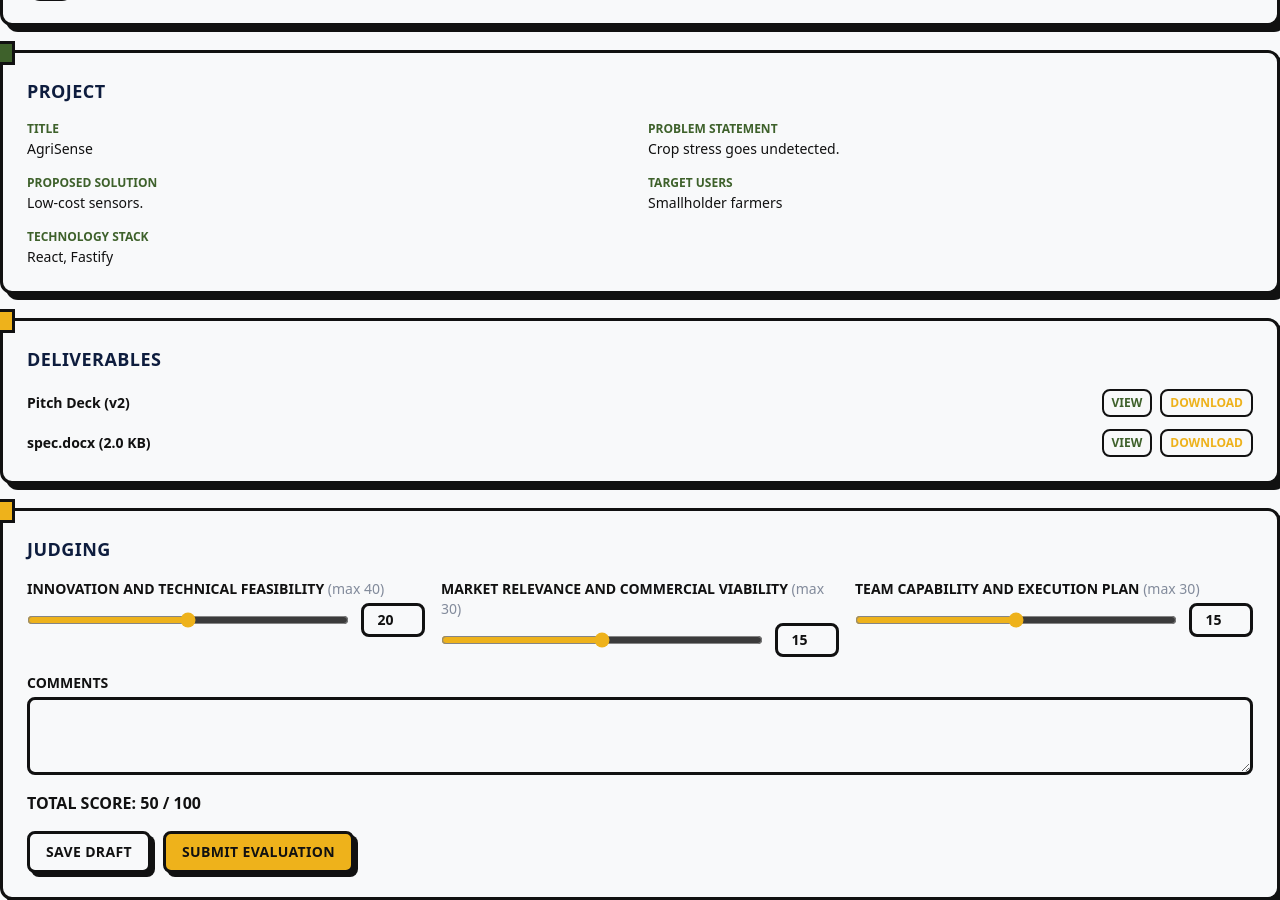
Scenario: Judge dashboard + evaluation (frontend) › 15. clicking submit opens a confirmation dialog
Step 1. Click the button with test id "judge-submit-button" → (259, 852), box left=163, top=831, right=354, bottom=873
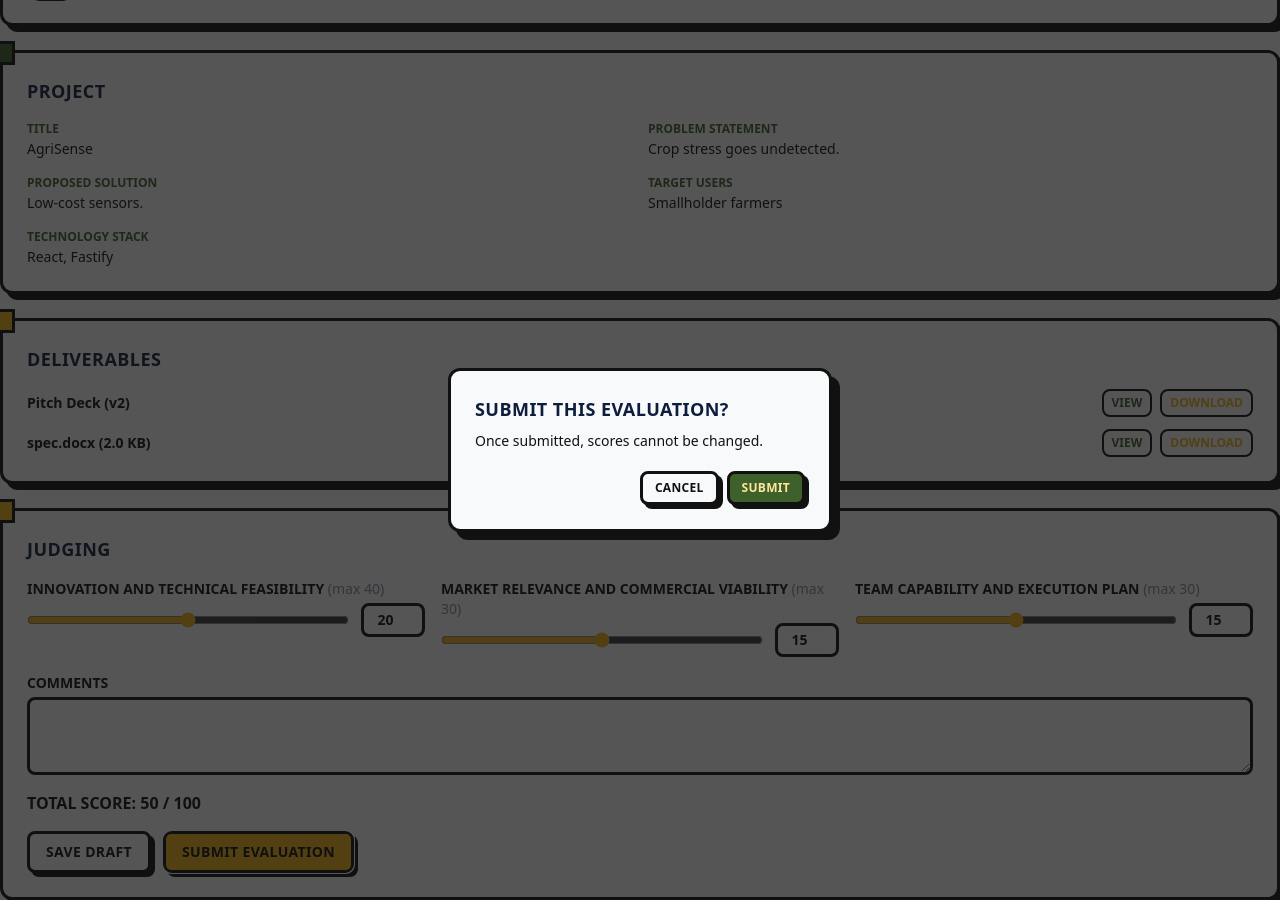
Now the heading "Submit this evaluation?" is shown, box left=475, top=397, right=729, bottom=421
